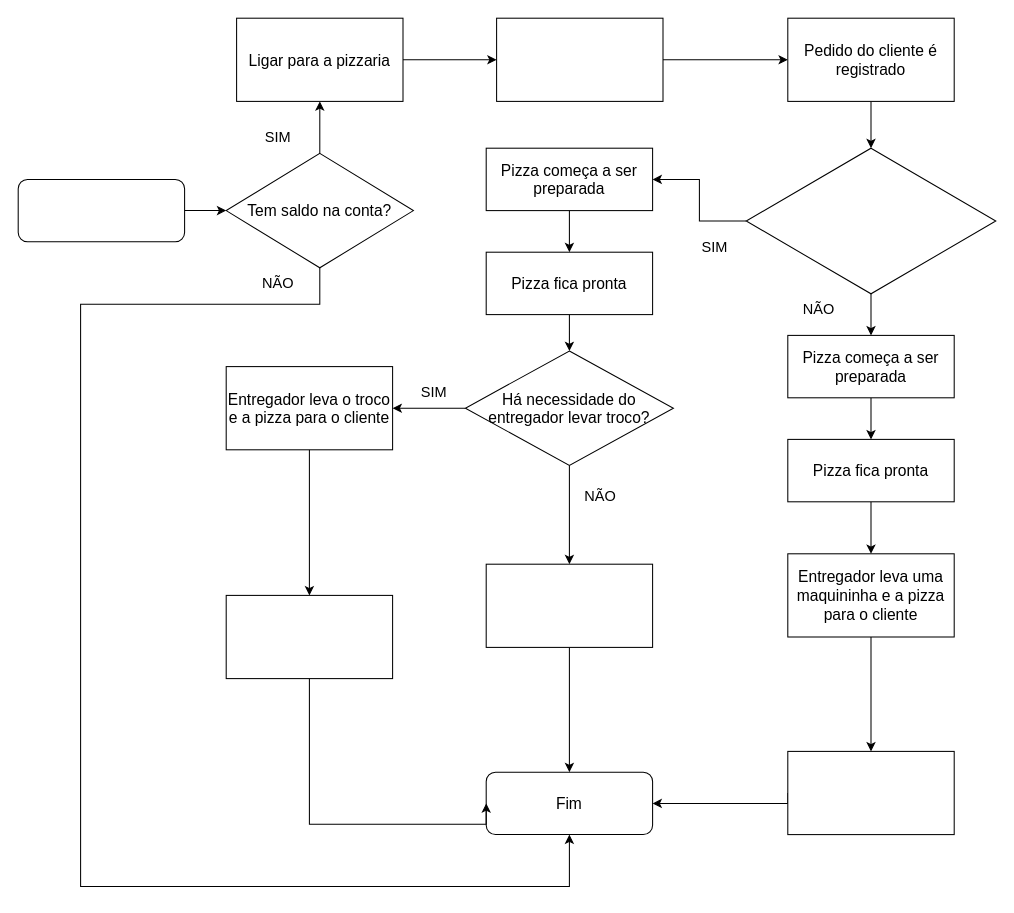
The diagram is 1014 pixels wide and 913 high, and some of its shapes have lost their labels. Here are the shapes that lost their labels. From the top down, the centre of each, then its label:
(x=579, y=59): Cliente realiza pedido com a atendente
(x=101, y=210): Início
(x=870, y=220): O pagamento será feito em dinheiro?
(x=569, y=605): Cliente paga em dinheiro e recebe a pizza
(x=309, y=636): Cliente paga em dinheiro e recebe o troco e a pizza
(x=870, y=792): Cliente paga com cartão e recebe a pizza
